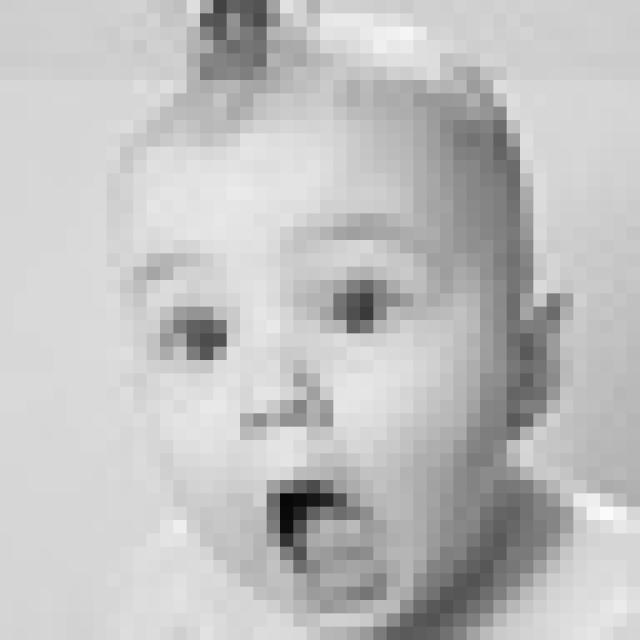surprise: (126, 212, 453, 618)
